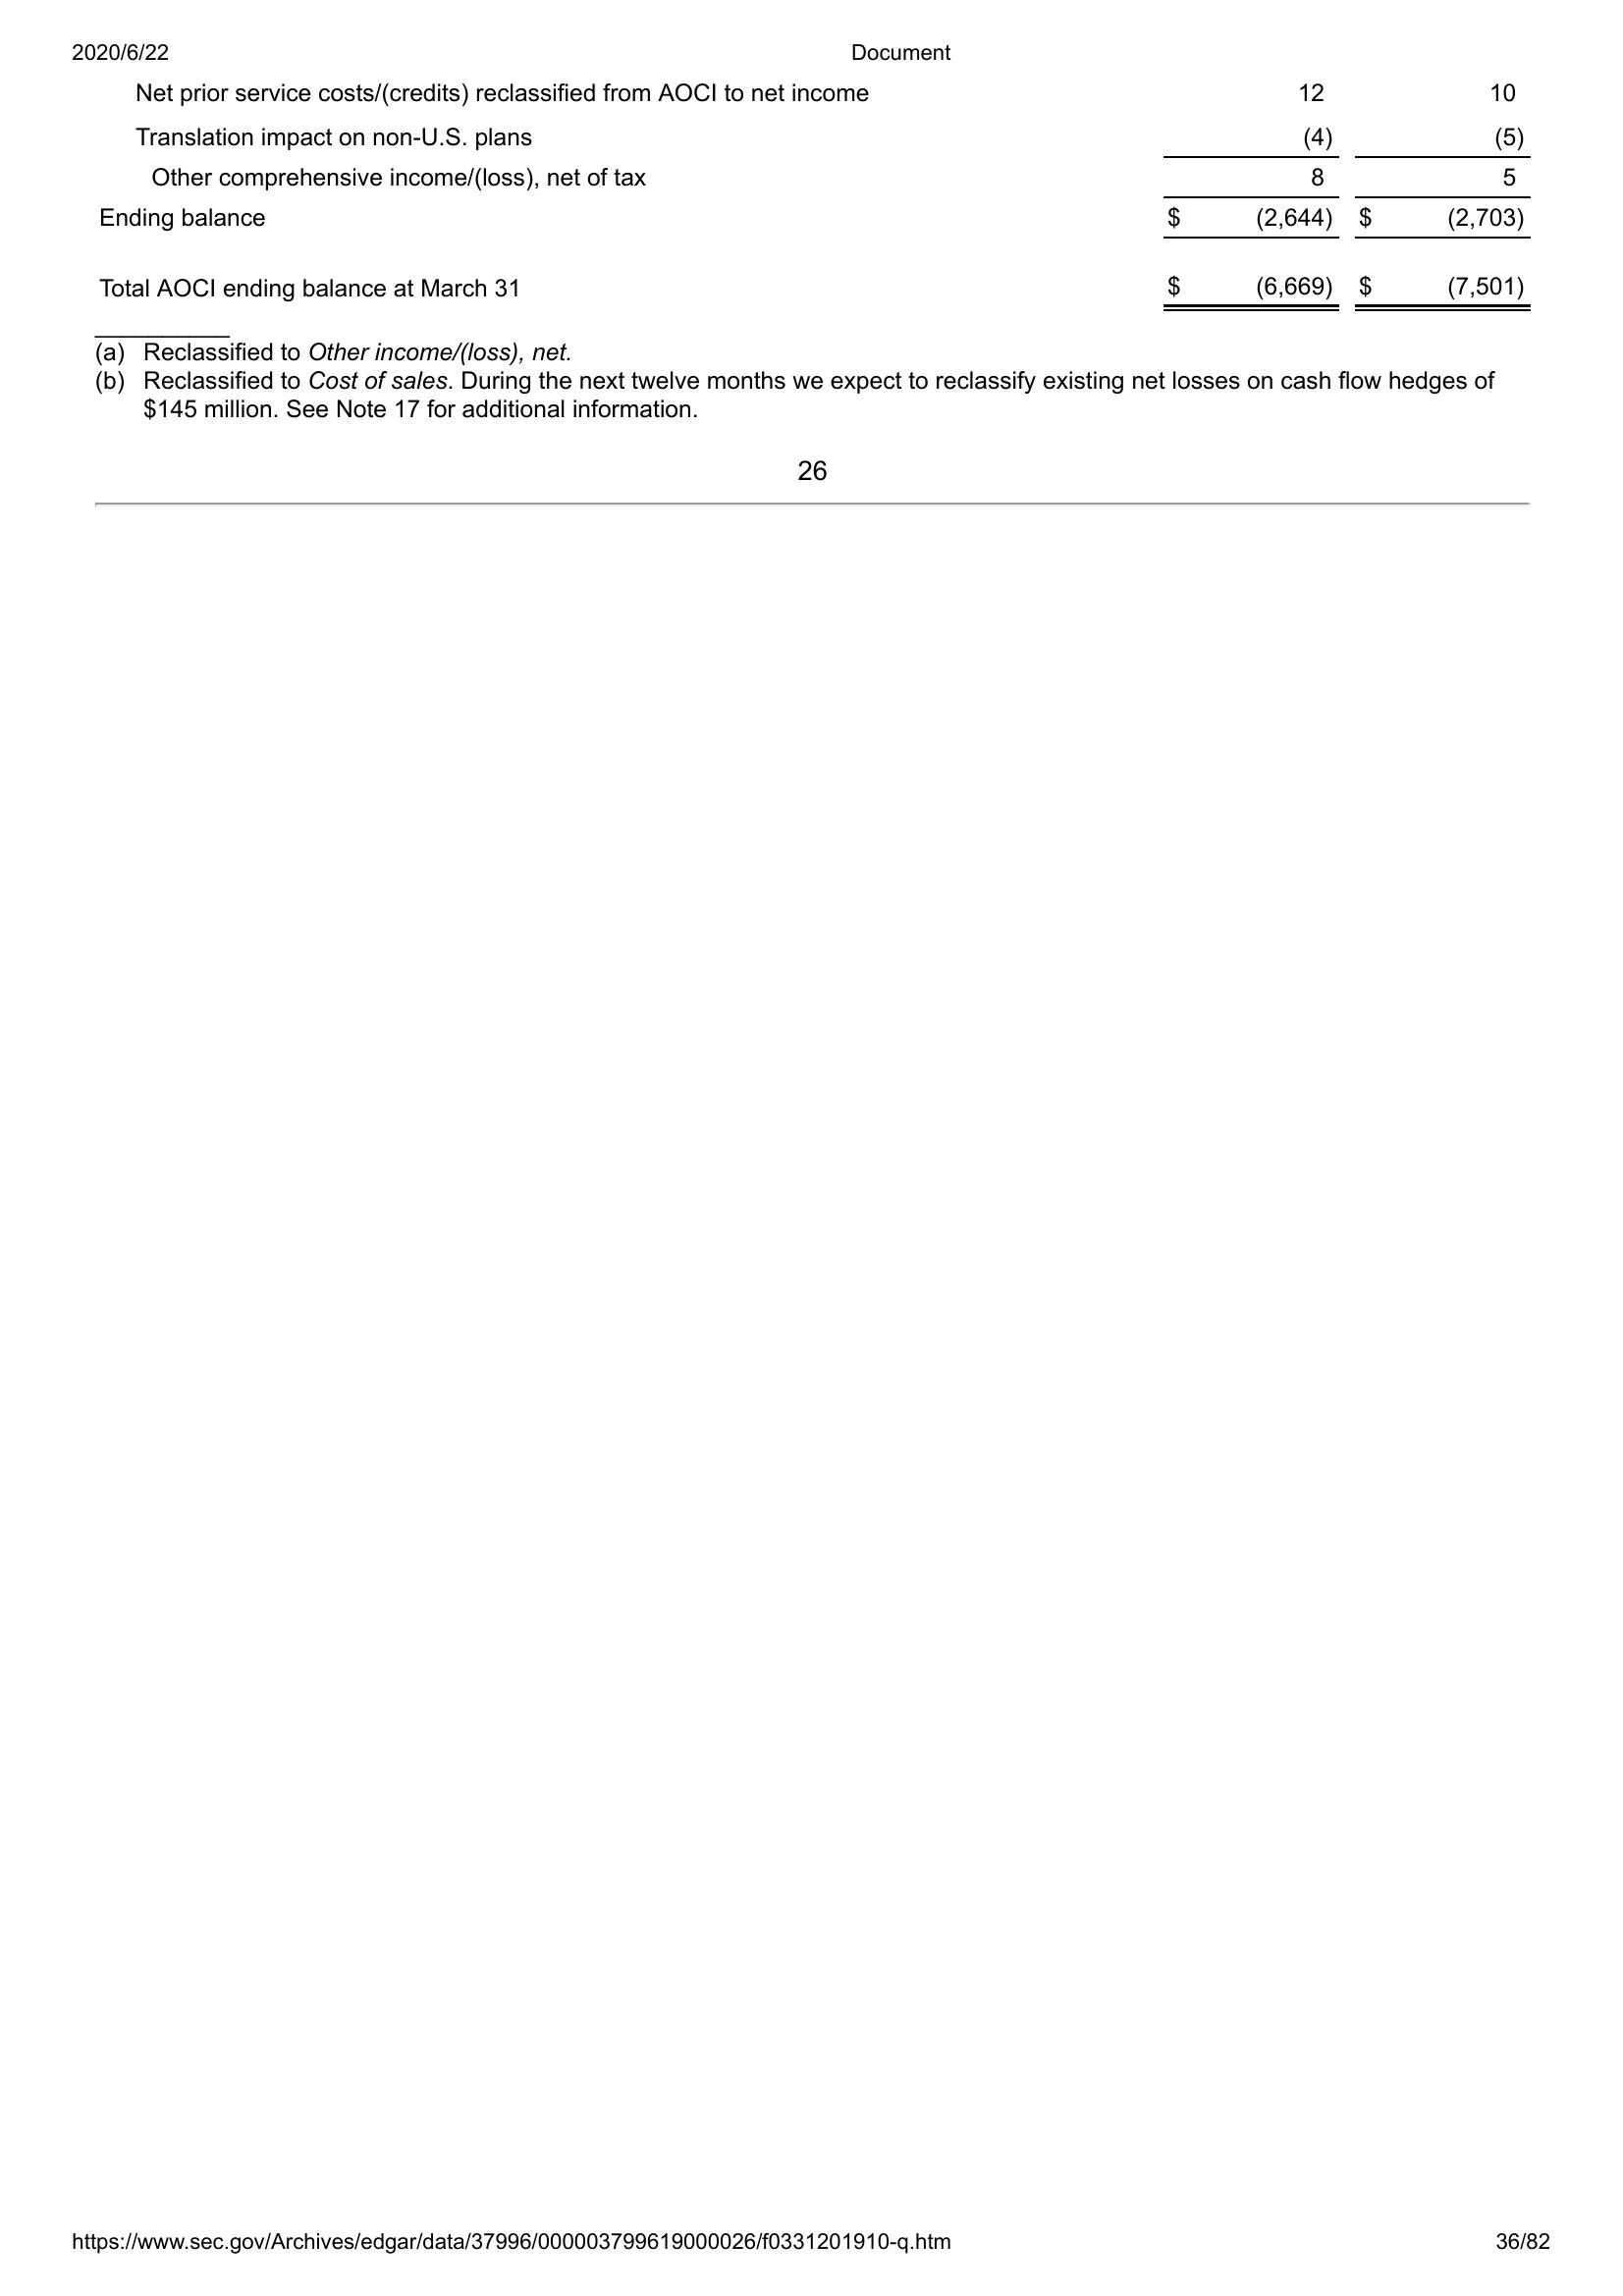table: (90, 75, 1539, 318)
